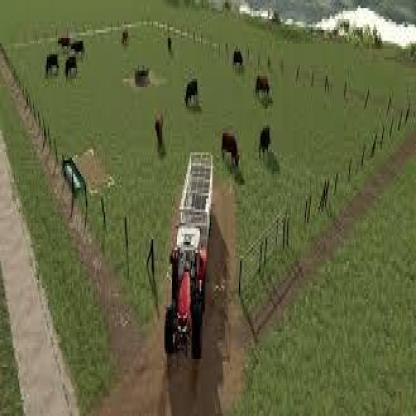cow: (222, 129, 240, 170), (253, 73, 273, 109), (184, 78, 199, 107), (64, 54, 79, 82), (259, 125, 271, 160), (45, 53, 59, 78), (155, 113, 164, 151), (68, 38, 85, 54), (232, 49, 243, 73), (57, 35, 71, 52), (121, 30, 128, 46), (167, 36, 172, 54)
